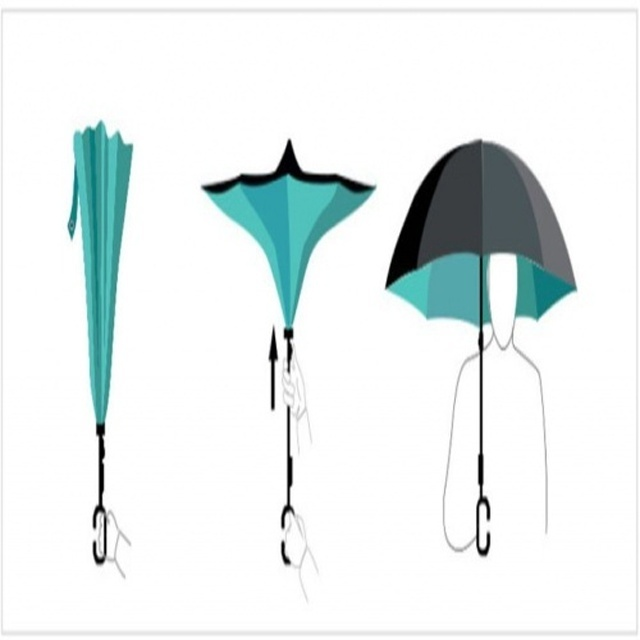umbrella: (385, 137, 579, 560), (199, 134, 381, 569), (66, 116, 134, 572)
